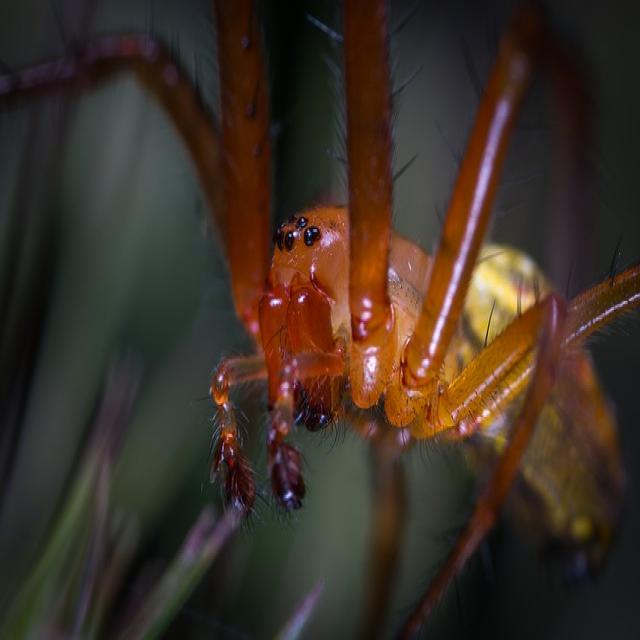spyder: (0, 0, 640, 627)
